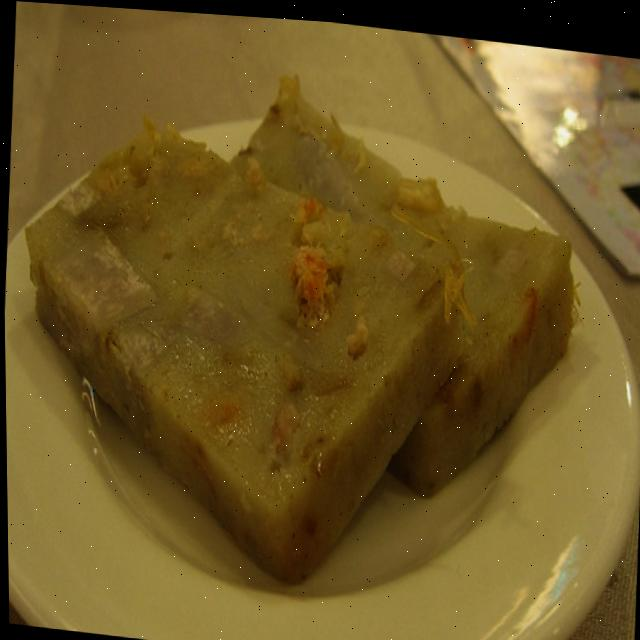蛋糕甜品: (1, 49, 608, 589)
